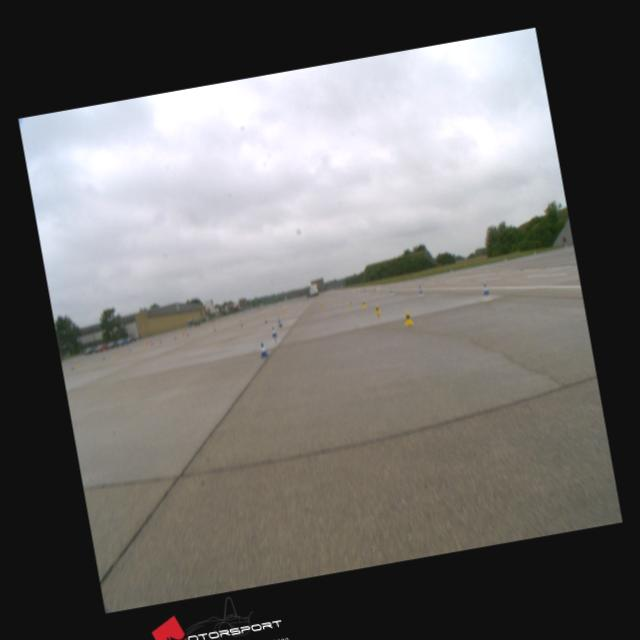blue_cone: (258, 341, 268, 356), (270, 326, 277, 337)
yellow_cone: (402, 310, 412, 324), (374, 304, 380, 314)
